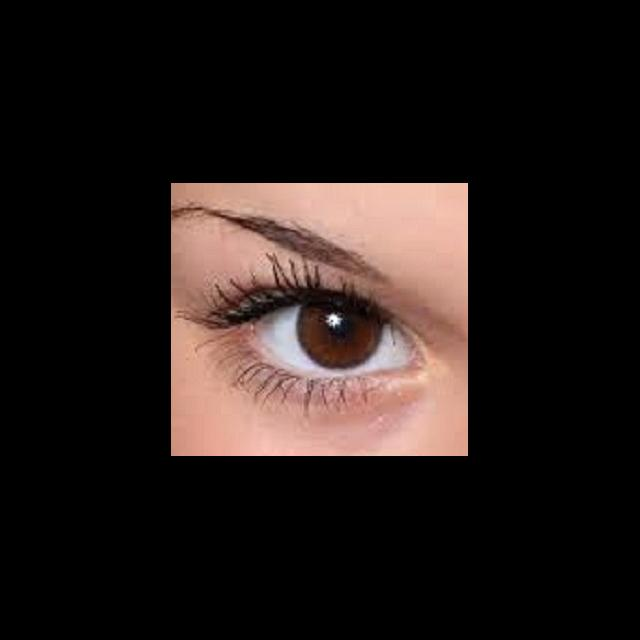eye: (250, 299, 411, 379)
iris: (299, 300, 378, 374)
